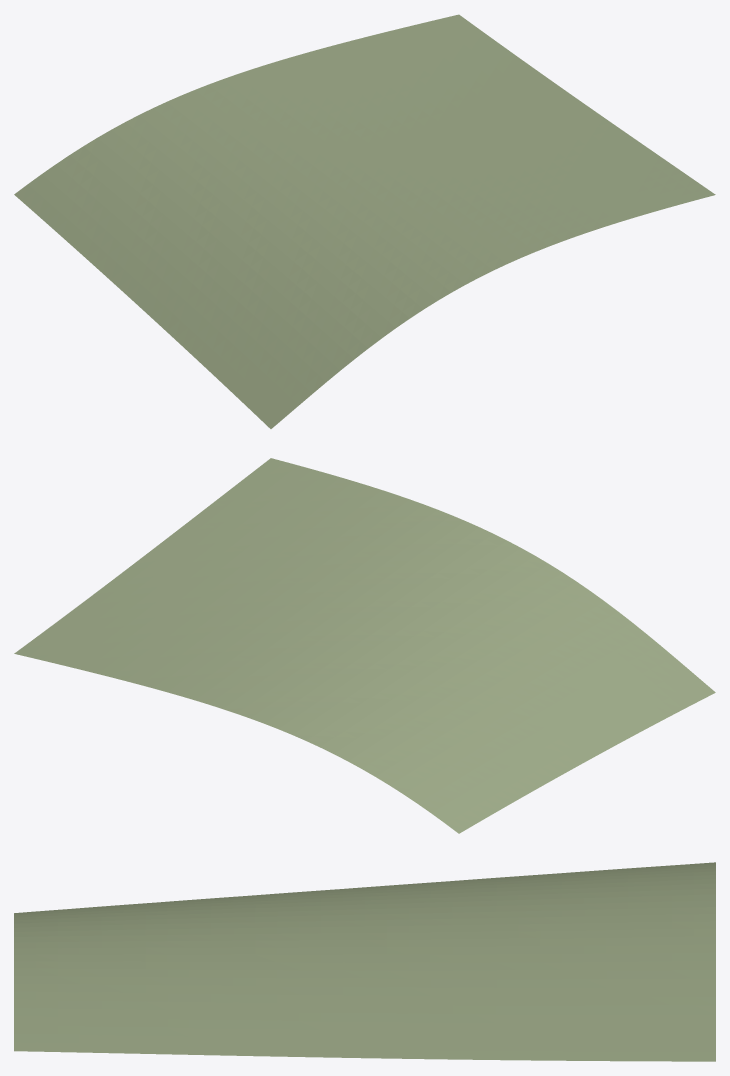
The model's file is expanse-14-27.glb.
The picture shows the model from 3 angles, top to bottom: view 1: azimuth 30°, elevation 25°; view 2: azimuth 150°, elevation 25°; view 3: azimuth 270°, elevation 25°; orthographic projection. The views are drawn at different scales.
Parts seen in each view (by area): view 1: expanse-14-27; view 2: expanse-14-27; view 3: expanse-14-27.
Part boxes in pixels (x1,y1,x2,y2): expanse-14-27: [14, 14, 715, 428]; expanse-14-27: [14, 458, 715, 833]; expanse-14-27: [14, 862, 715, 1061].
Bounding box in the file's own units: 256 × 69.26 × 256.
